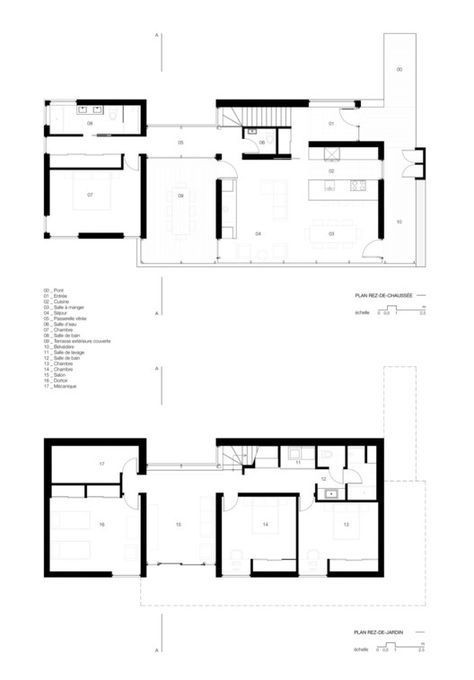door: (354, 231, 391, 267), (397, 144, 420, 181), (213, 152, 241, 179), (238, 131, 265, 157), (334, 101, 361, 127), (221, 487, 243, 518), (121, 155, 147, 180), (338, 462, 363, 487), (122, 483, 142, 508), (121, 454, 142, 474), (327, 465, 346, 487)
room: (216, 94, 386, 256), (38, 98, 151, 240), (44, 485, 150, 578), (220, 442, 384, 500), (216, 489, 299, 580), (297, 494, 383, 578), (45, 439, 148, 484)
wall: (365, 431, 391, 585), (214, 436, 394, 452), (37, 431, 56, 579), (39, 431, 150, 450), (209, 93, 310, 111), (37, 564, 112, 587), (42, 162, 127, 182), (309, 132, 386, 152), (292, 489, 309, 577), (136, 493, 153, 580), (136, 153, 153, 239), (37, 152, 59, 217), (373, 176, 395, 239), (209, 491, 224, 581), (325, 564, 388, 582), (211, 175, 228, 241), (312, 493, 386, 508), (75, 95, 152, 109), (46, 477, 124, 490), (134, 437, 157, 475), (77, 227, 124, 244), (239, 148, 293, 162), (245, 569, 303, 581), (135, 97, 152, 137), (39, 126, 83, 141), (237, 490, 302, 500), (100, 132, 149, 144), (271, 437, 289, 469), (270, 123, 283, 164), (415, 146, 429, 181), (340, 439, 355, 470), (311, 436, 323, 472), (239, 123, 293, 131), (360, 439, 374, 465)
window: (219, 562, 255, 585), (311, 93, 360, 109), (47, 226, 81, 247), (110, 565, 141, 586), (44, 95, 77, 111), (373, 154, 391, 181), (39, 103, 54, 127), (41, 213, 53, 234), (39, 135, 52, 154)
